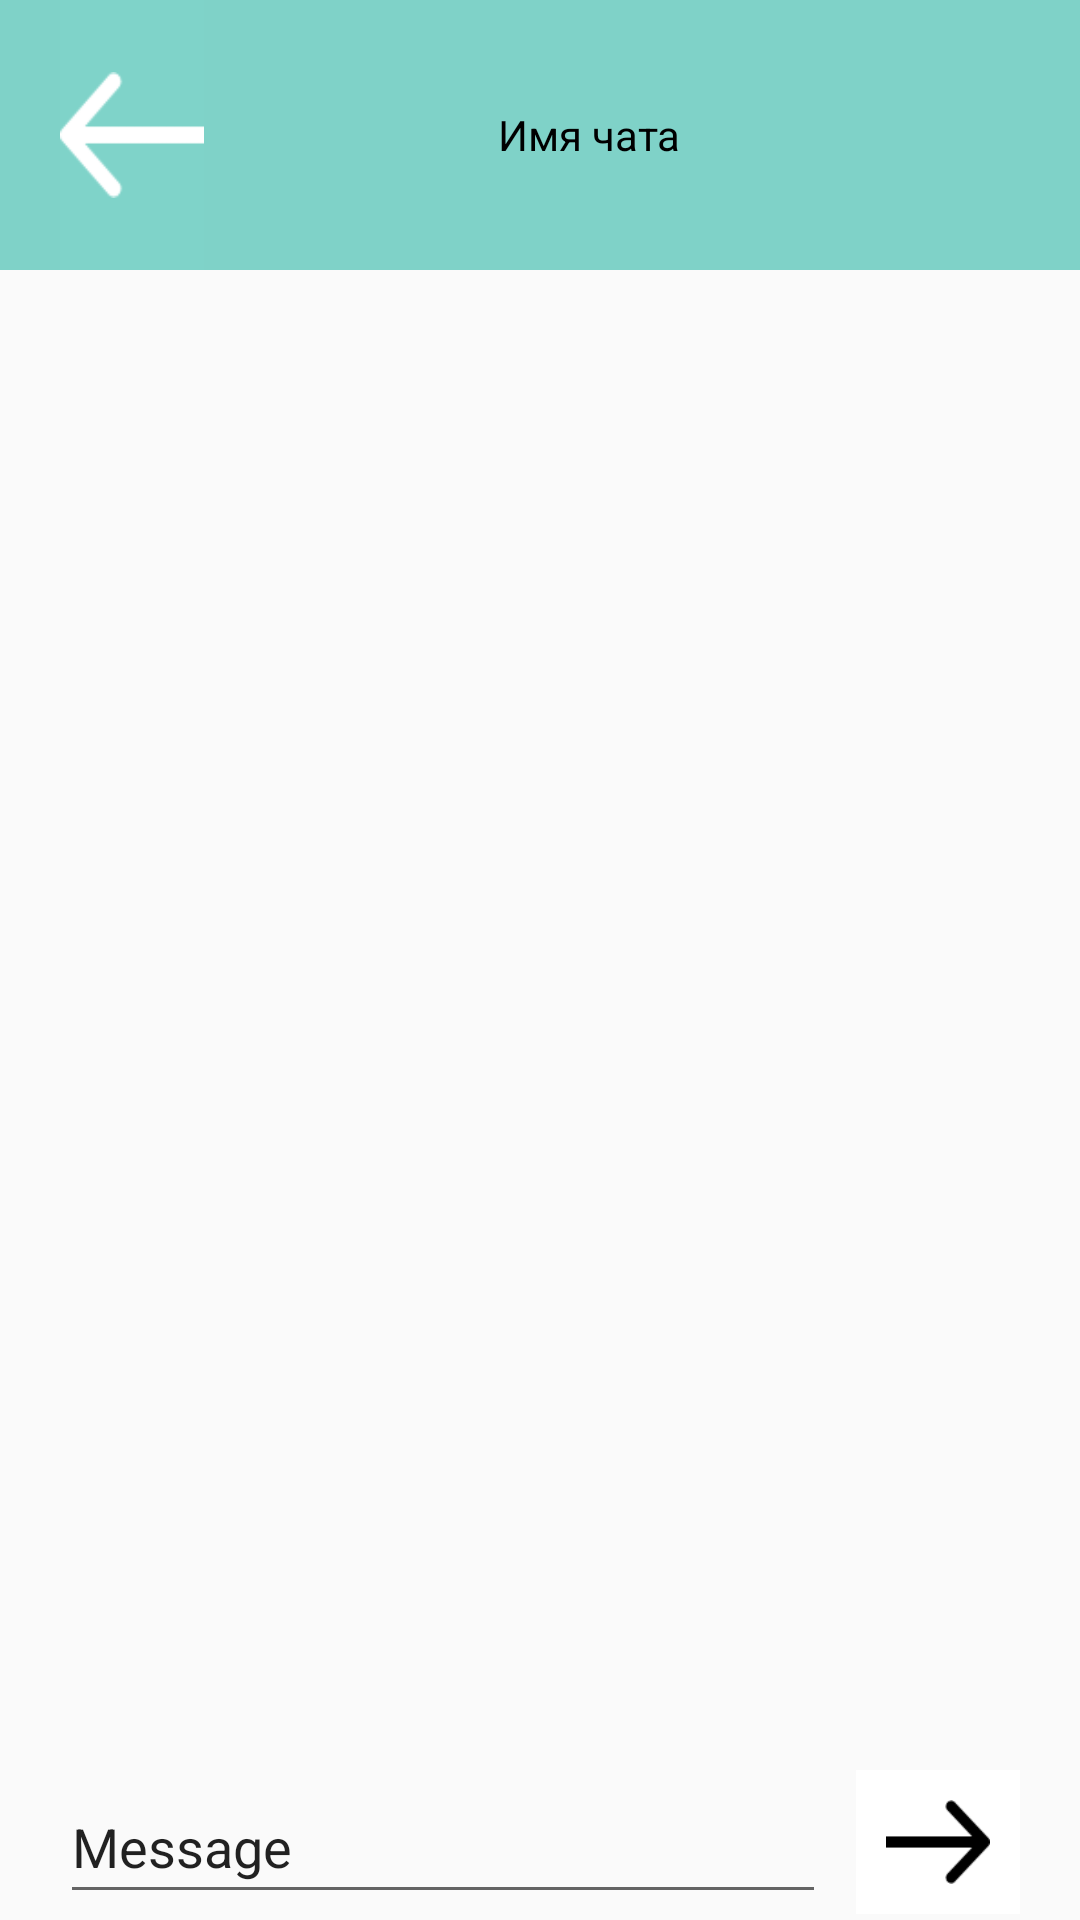

Screen size 1080px x 1920px. Icon name, then its box in pixels as {"x1": x1, "y1": y1, "x2": x2, "y2": y2}:
arrow: {"x1": 886, "y1": 1800, "x2": 990, "y2": 1884}
symbolback: {"x1": 60, "y1": 72, "x2": 204, "y2": 198}
